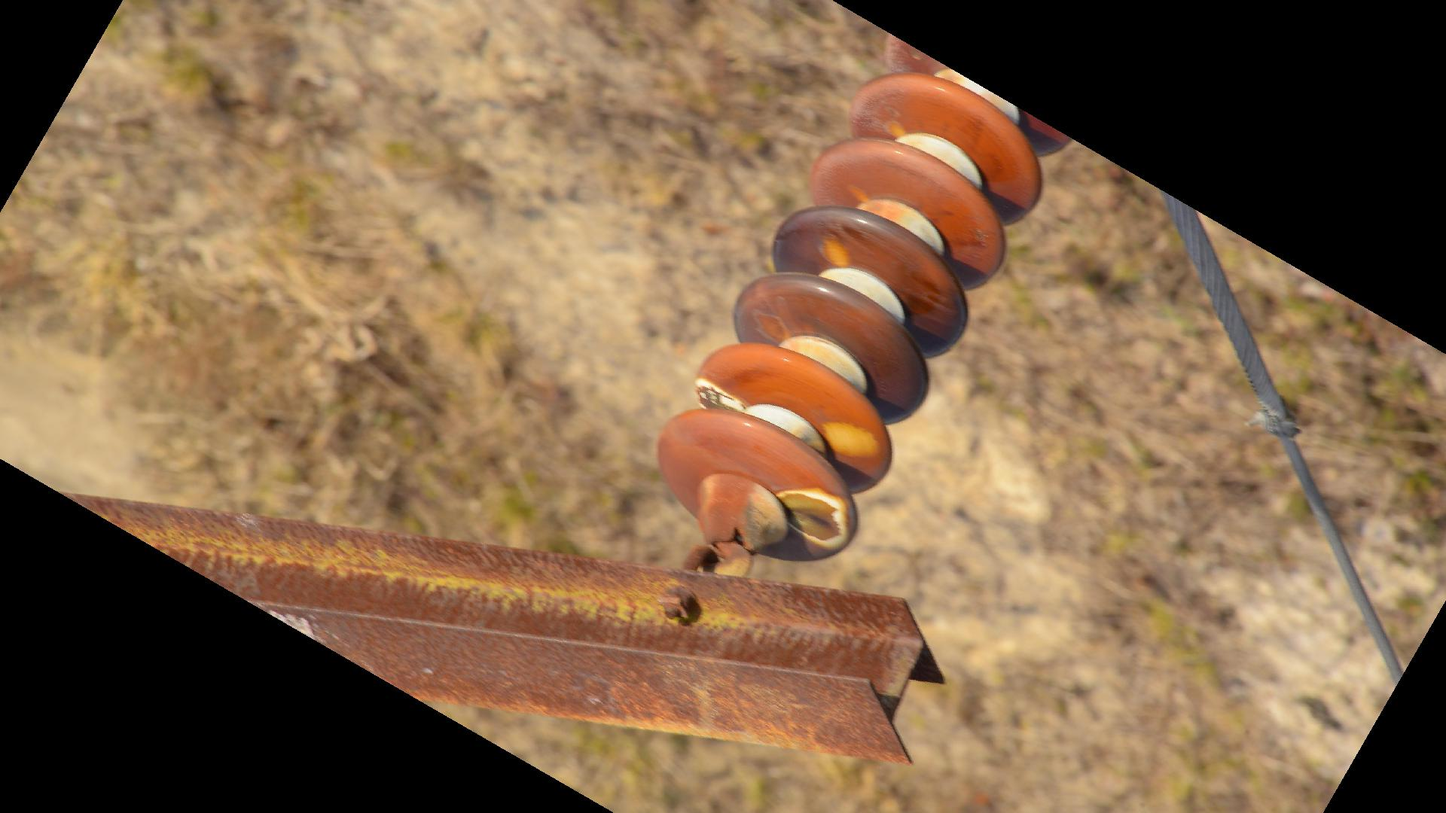insulator: (651, 24, 1080, 568)
insulator_flashover: (774, 486, 850, 550), (820, 417, 884, 463), (692, 376, 751, 415), (816, 230, 855, 269)
